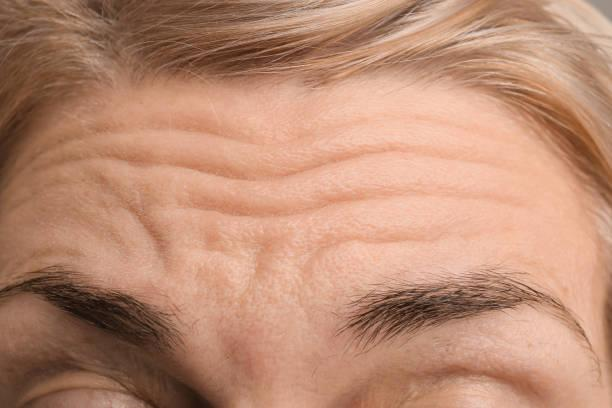Dry-Skin: (60, 114, 530, 277)
